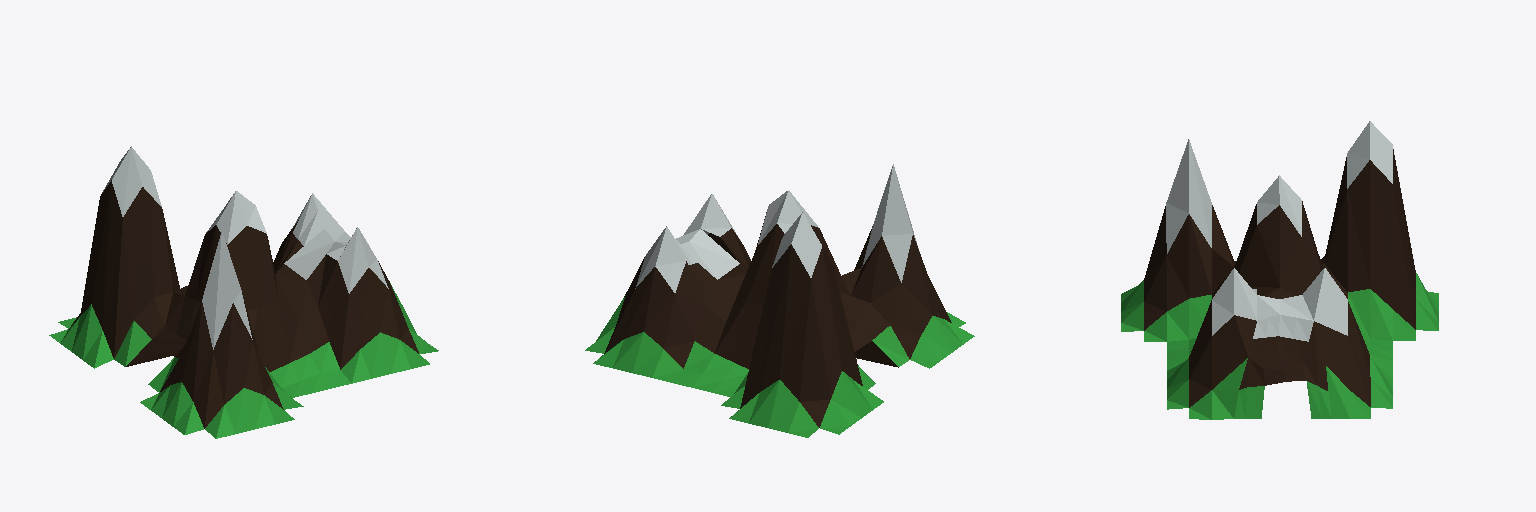
The model's file is mountain.obj.
3 views of the same model, side by side, from view 1: azimuth 30°, elevation 25°; view 2: azimuth 150°, elevation 25°; view 3: azimuth 270°, elevation 25° (orthographic).
Visible parts, largest first — view 1: Plane; view 2: Plane; view 3: Plane.
Part boxes in pixels (x1,y1,x2,y2): Plane: (49, 146, 438, 438); Plane: (585, 164, 974, 437); Plane: (1121, 121, 1438, 419).
Size of the model in its own units: 4.66 by 3.09 by 4.6.